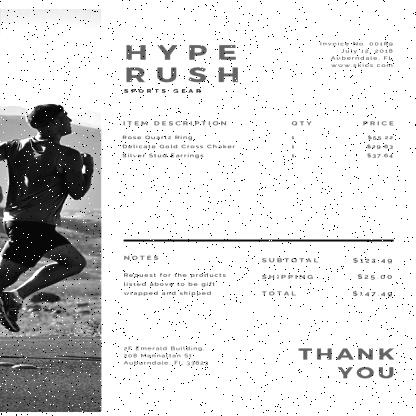Paragraph: (120, 40, 244, 98), (316, 38, 398, 70)
Table: (115, 114, 402, 164), (118, 253, 235, 299)
